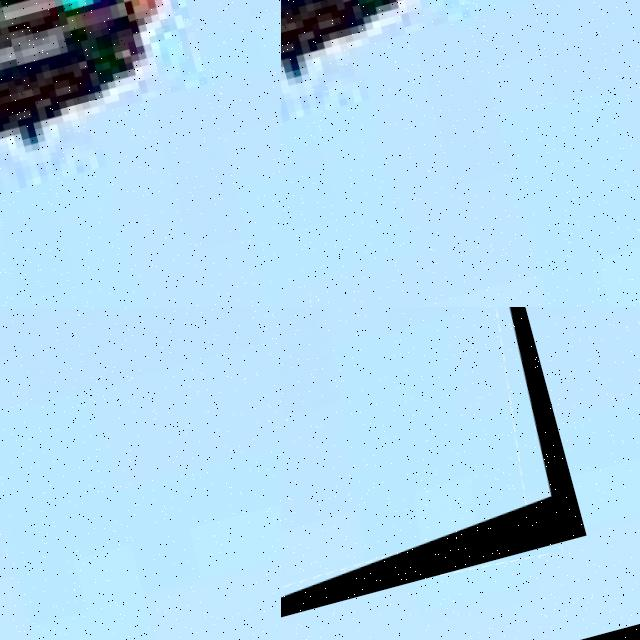drone: (281, 307, 586, 640)
